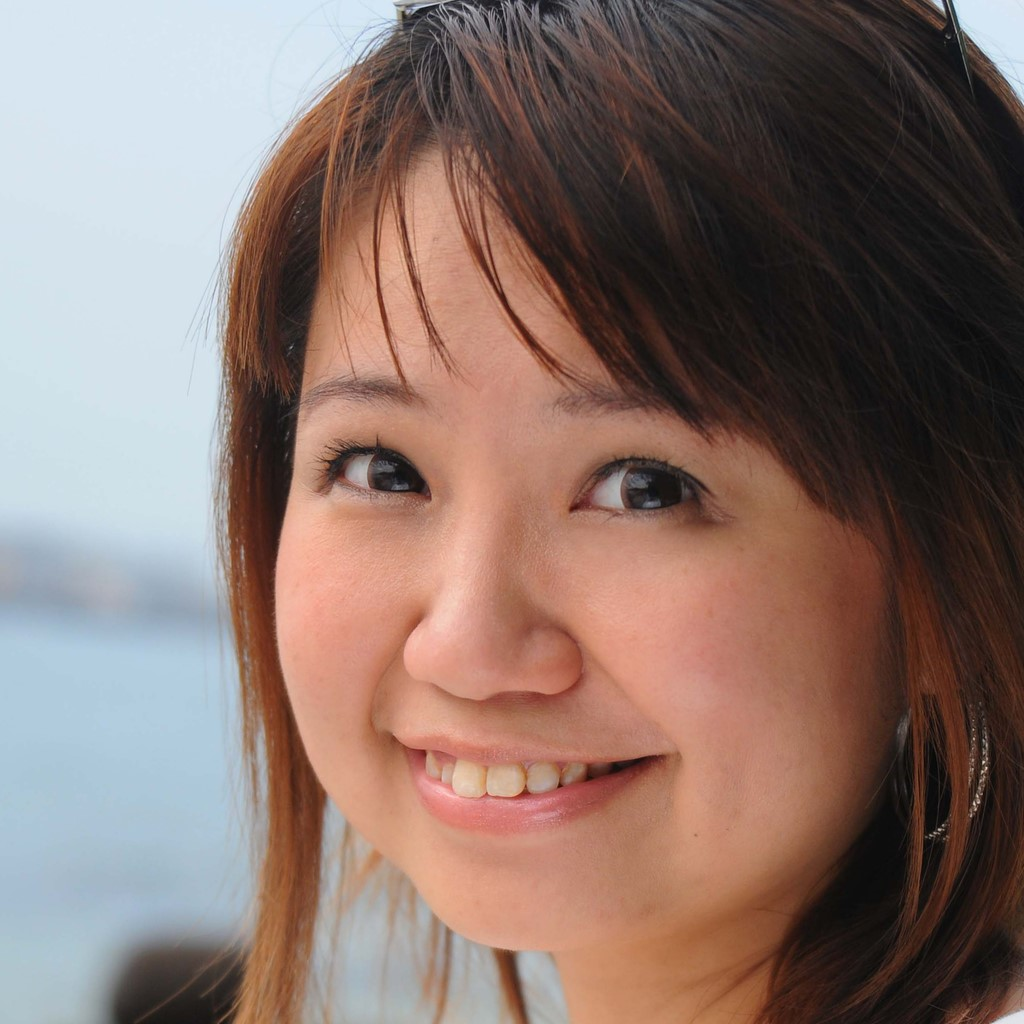sin_mascara: (270, 75, 922, 975)
